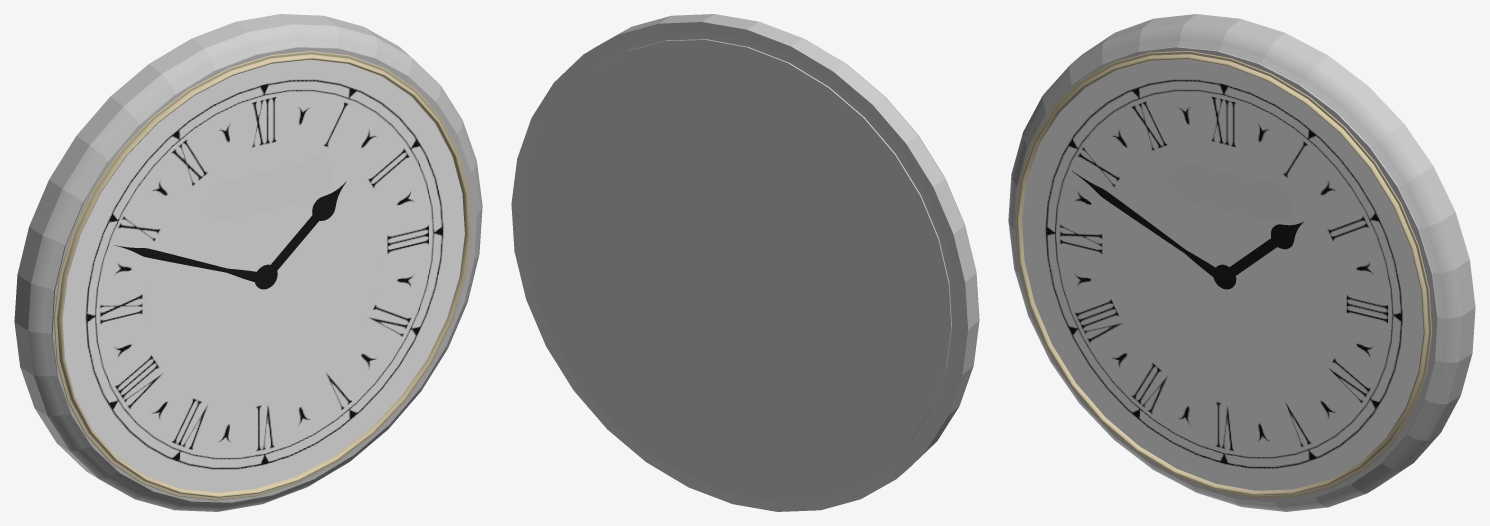
Rendered from OldWallClock_3dsMax.fbx.
3 renders of one model, left to right at view 1: azimuth 30°, elevation 25°; view 2: azimuth 150°, elevation 25°; view 3: azimuth 330°, elevation 25°, orthographic.
Visible parts, largest first — view 1: polySurface3, Wall_Clock002, Wall_Clock001, polySurface4, polySurface1; view 2: Wall_Clock002; view 3: polySurface3, Wall_Clock002, Wall_Clock001, polySurface4, polySurface1.
Part boxes in pixels (<box>): polySurface3: <box>62,59,464,492</box>; Wall_Clock002: <box>14,14,482,511</box>; Wall_Clock001: <box>54,51,471,500</box>; polySurface4: <box>255,181,346,289</box>; polySurface1: <box>114,245,269,283</box>; Wall_Clock002: <box>511,14,979,511</box>; polySurface3: <box>1022,59,1423,490</box>; Wall_Clock002: <box>1008,14,1475,511</box>; Wall_Clock001: <box>1015,51,1431,498</box>; polySurface4: <box>1213,221,1303,289</box>; polySurface1: <box>1072,171,1227,283</box>.
Bounding box in the file's own units: 8.93 × 8.93 × 0.8635.
